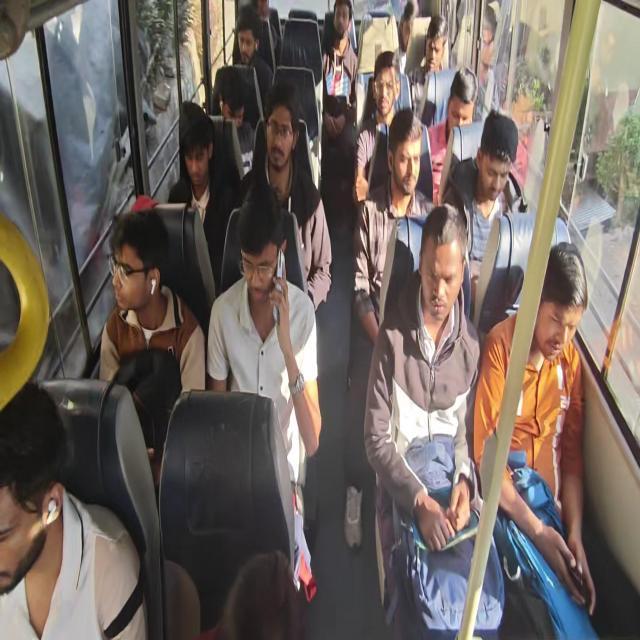person: (0, 382, 69, 609), (535, 252, 582, 362), (237, 202, 285, 308), (109, 217, 162, 310), (418, 220, 464, 326), (478, 123, 520, 206), (388, 118, 423, 203), (264, 100, 296, 180), (446, 68, 478, 141), (181, 113, 211, 186), (216, 72, 246, 135), (422, 19, 454, 72), (372, 52, 398, 114), (320, 0, 354, 42), (232, 12, 256, 69), (399, 0, 424, 52)
